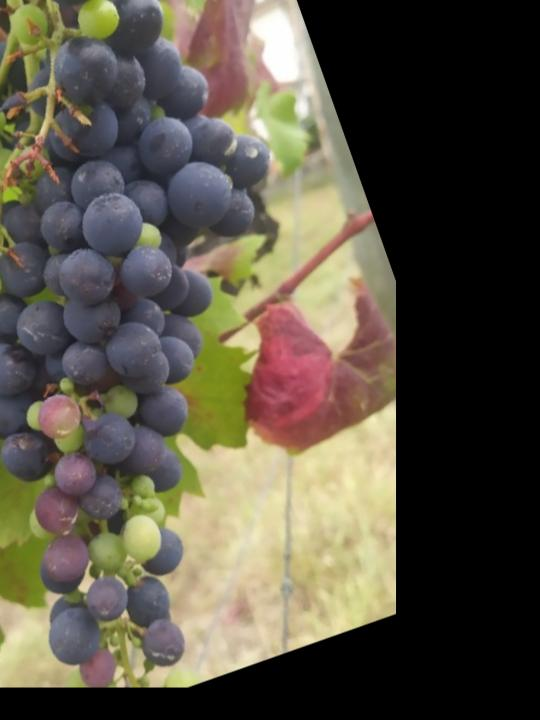grape: (0, 0, 464, 720)
